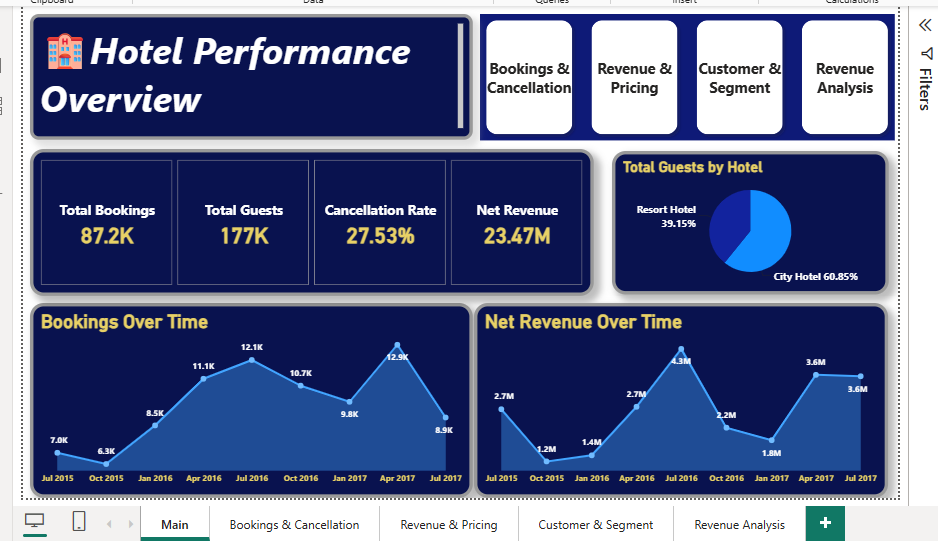

The page's visual inventory and layout, read from the dashboard file:
{"tool":"powerbi","page":{"name":"Main","canvas":[1280,720],"ordinal":0},"visuals":[{"type":"areaChart","title":"Bookings Over Time","fields":{"Category":["HotelBookings_Clean.arrival_date.Variation.Date Hierarchy.Year","HotelBookings_Clean.arrival_date.Variation.Date Hierarchy.Quarter","HotelBookings_Clean.arrival_date.Variation.Date Hierarchy.Month","HotelBookings_Clean.arrival_date.Variation.Date Hierarchy.Day"],"Y":["Measures (2).Total Bookings"]},"box":[10.2,434.6,648.3,285.4],"z":0},{"type":"cardVisual","fields":{"Data":["Measures (2).Total Bookings1","Measures (2).Total Guests","Measures (2).Cancellation Rate","Sum(HotelBookings_Clean.net_revenue)"]},"box":[10.2,209.3,825.4,215.1],"z":1000},{"type":"pageNavigator","box":[668.3,11.7,606.7,185],"z":2000},{"type":"textbox","box":[10.2,11.7,648.3,184.4],"z":3000},{"type":"areaChart","title":"Net Revenue Over Time","fields":{"Category":["HotelBookings_Clean.arrival_date.Variation.Date Hierarchy.Year","HotelBookings_Clean.arrival_date.Variation.Date Hierarchy.Quarter","HotelBookings_Clean.arrival_date.Variation.Date Hierarchy.Month","HotelBookings_Clean.arrival_date.Variation.Date Hierarchy.Day"],"Y":["Sum(HotelBookings_Clean.net_revenue)"]},"box":[659.3,434.6,605.9,285.4],"z":4000},{"type":"pieChart","title":"Total Guests by Hotel","fields":{"Category":["HotelBookings_Clean.hotel"],"Y":["Sum(HotelBookings_Clean.total_guests)"]},"box":[861.7,211.7,404.8,209.9],"z":5000}]}

Visuals, with their boxes on the page's 1280x720 design canvas (x1, y1, x2, y2). These are canvas units, not pixel positions in the 938x541 screenshot, which may show the page scaled, cropped or inside an application window:
"Bookings Over Time" areaChart: l=10, t=435, r=658, b=720
cardVisual - Measures (2).Total Bookings1 x Measures (2).Total Guests: l=10, t=209, r=836, b=424
pageNavigator: l=668, t=12, r=1275, b=197
textbox: l=10, t=12, r=658, b=196
"Net Revenue Over Time" areaChart: l=659, t=435, r=1265, b=720
"Total Guests by Hotel" pieChart: l=862, t=212, r=1266, b=422
